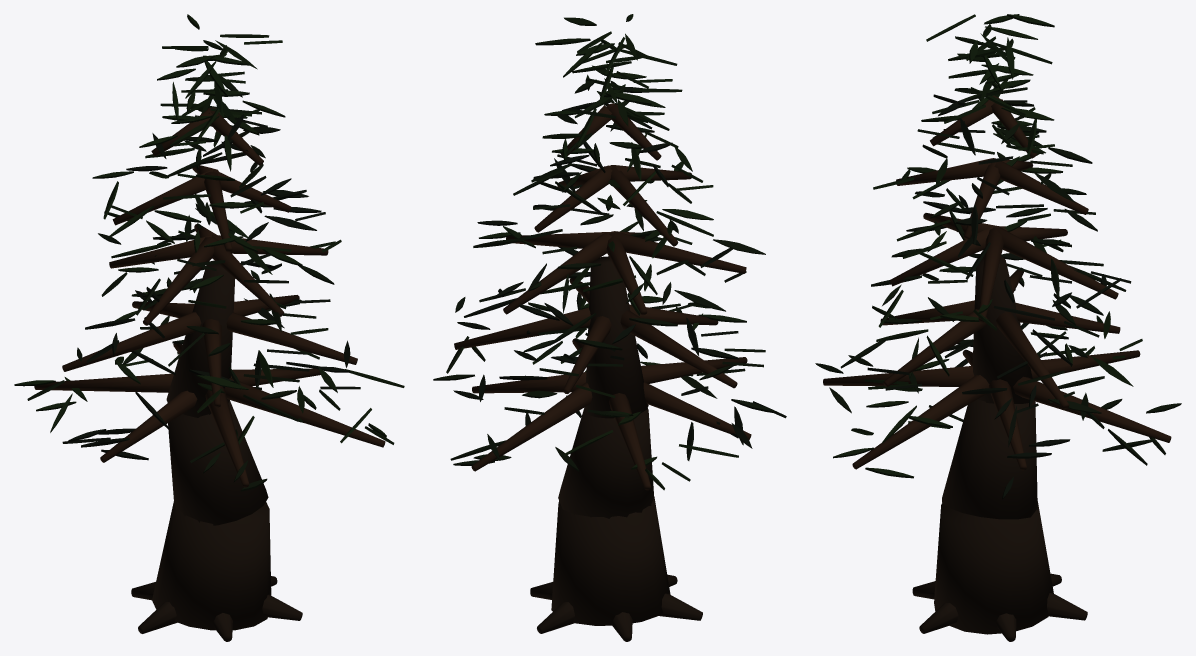
File: NaturePineB.obj
3 renders of one model, left to right at view 1: azimuth 30°, elevation 25°; view 2: azimuth 150°, elevation 25°; view 3: azimuth 270°, elevation 25°, orthographic. The views are drawn at different scales.
Visible parts, largest first — view 1: weathered_trunk_0, weathered_trunk_1, weathered_trunk_2, pine_bough.003, pine_bough.006, pine_bough.008, pine_bough, pine_bough.001, pine_bough.011, pine_bough.002, pine_bough.012, pine_bough.015 (+10 smaller); view 2: weathered_trunk_0, weathered_trunk_1, weathered_trunk_2, pine_bough.005, pine_bough.006, pine_bough.009, pine_bough.011, pine_bough.014, pine_bough.001, pine_bough, pine_bough.004, pine_bough.002 (+10 smaller); view 3: weathered_trunk_0, weathered_trunk_1, weathered_trunk_2, pine_bough.003, pine_bough.005, pine_bough.002, pine_bough.014, pine_bough.009, pine_bough.008, pine_bough.018, pine_bough.012, pine_bough.010 (+11 smaller).
Boxes of the visible parts, box(x1,y1,x2,y2) form: weathered_trunk_0: box(152, 501, 271, 630); weathered_trunk_1: box(168, 400, 268, 525); weathered_trunk_2: box(166, 260, 235, 417); pine_bough.003: box(224, 377, 385, 447); pine_bough.006: box(62, 312, 201, 371); pine_bough.008: box(226, 312, 357, 364); pine_bough: box(34, 373, 173, 392); pine_bough.001: box(100, 390, 197, 462); pine_bough.011: box(143, 237, 216, 325); pine_bough.002: box(205, 386, 249, 487); pine_bough.012: box(212, 237, 284, 316); pine_bough.015: box(109, 235, 211, 268); weathered_trunk_0: box(551, 497, 670, 625); weathered_trunk_1: box(558, 407, 654, 518); weathered_trunk_2: box(585, 256, 648, 418); pine_bough.005: box(471, 382, 592, 471); pine_bough.006: box(620, 310, 737, 388); pine_bough.009: box(454, 307, 590, 349); pine_bough.011: box(614, 231, 746, 273); pine_bough.014: box(503, 232, 611, 314); pine_bough.001: box(643, 382, 751, 439); pine_bough: box(609, 393, 650, 490); pine_bough.004: box(472, 372, 586, 393); pine_bough.002: box(641, 357, 747, 383); weathered_trunk_0: box(934, 501, 1053, 634); weathered_trunk_1: box(942, 399, 1037, 519); weathered_trunk_2: box(972, 256, 1032, 403); pine_bough.003: box(852, 375, 989, 469); pine_bough.005: box(1013, 376, 1171, 442); pine_bough.002: box(823, 366, 974, 386); pine_bough.014: box(997, 227, 1118, 299); pine_bough.009: box(996, 312, 1069, 408); pine_bough.008: box(883, 309, 987, 386); pine_bough.018: box(994, 161, 1088, 214); pine_bough.012: box(889, 226, 992, 286); pine_bough.010: box(1015, 303, 1120, 333).
Size of the model in its own units: 1.54 by 2.61 by 1.46.
